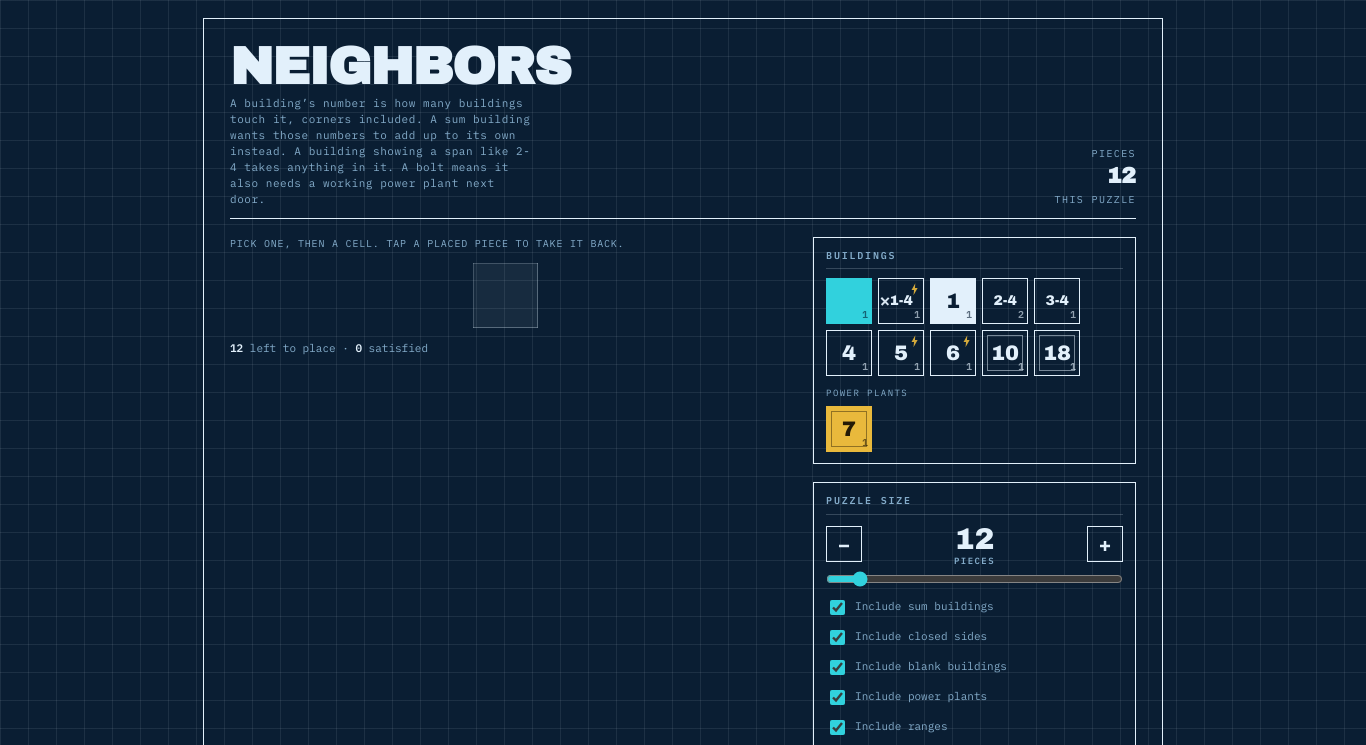
it: App › deals a puzzle of the size asked for
The image size is (1366, 745).
Set the slider named "Pieces per puzzle" to "7". click: (842, 579)
box: top-left (826, 571), bottom-right (1123, 587)
(page scrolled)
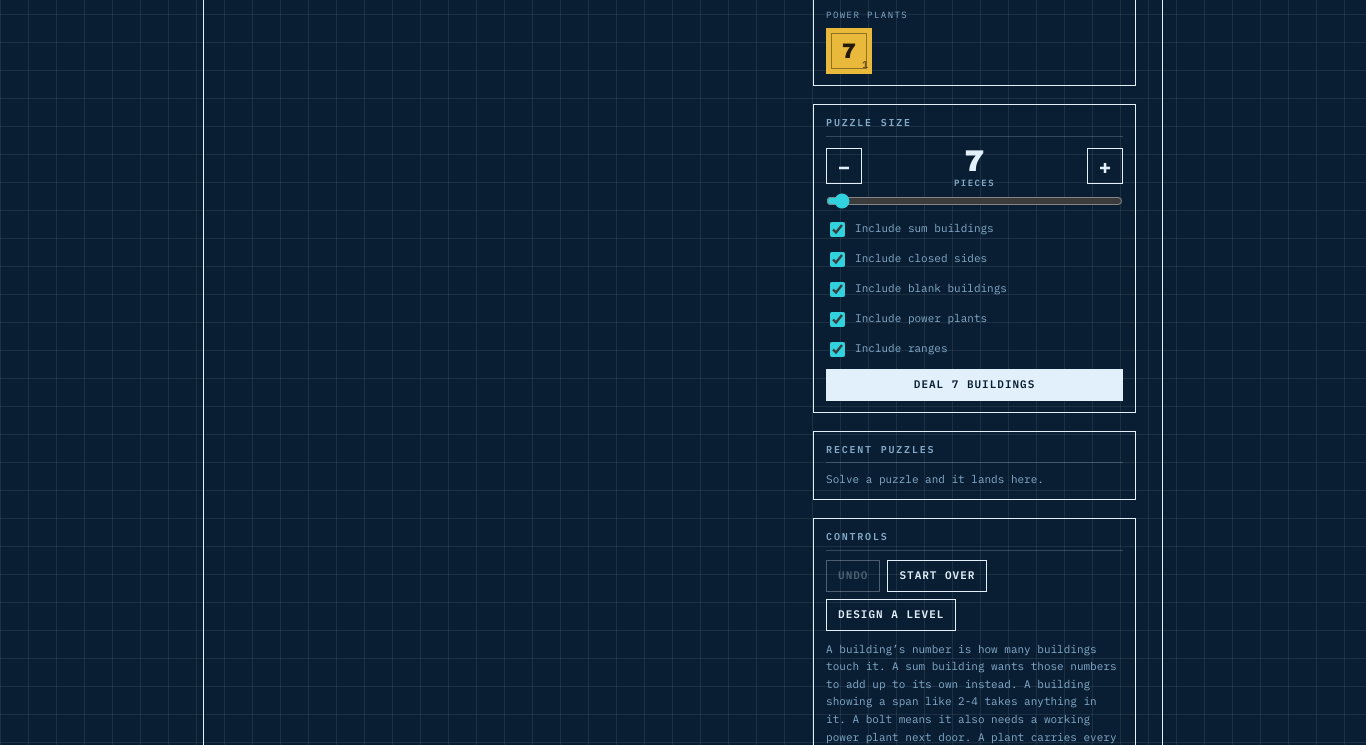
Click the button "Deal 7 buildings". click: (975, 385)
box: top-left (826, 369), bottom-right (1123, 401)
(page scrolled)
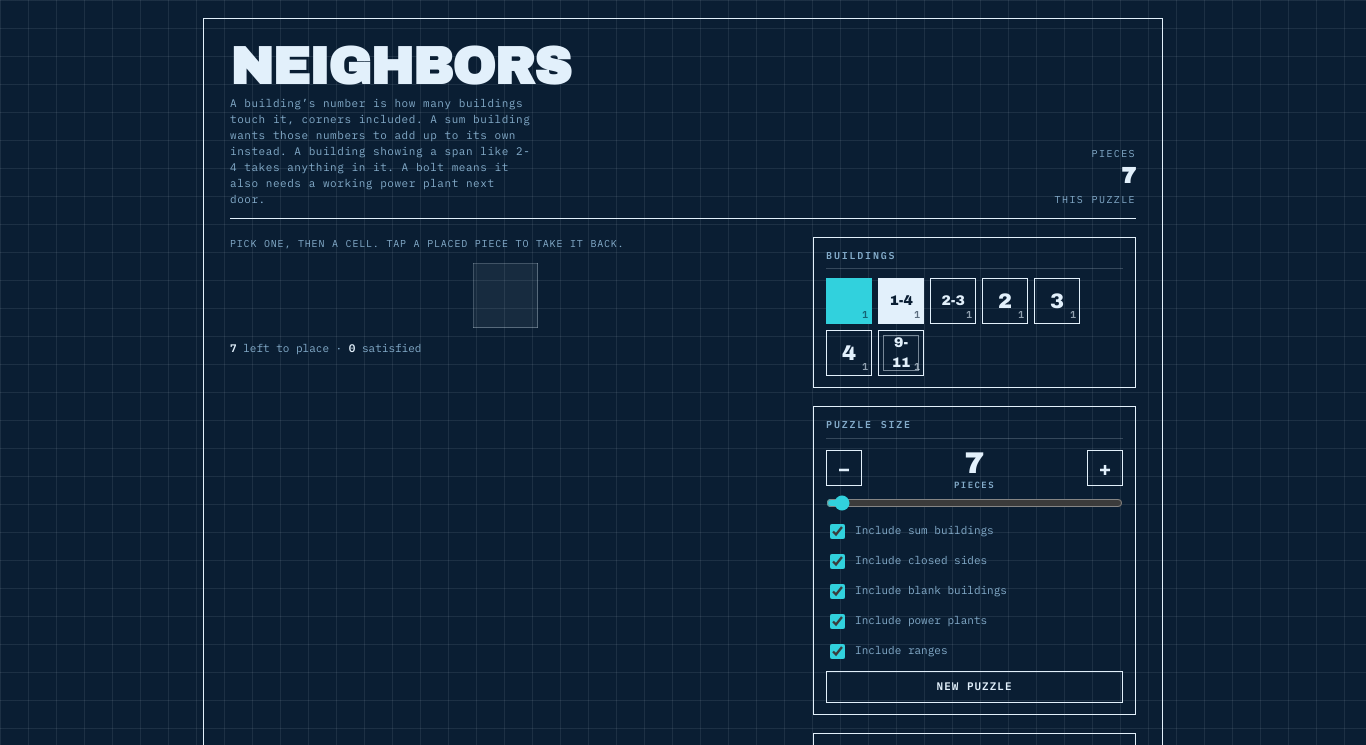
Result: the element with class "readout" reads "7 left to place · 0 satisfied" at top-left (230, 341), bottom-right (421, 355)
